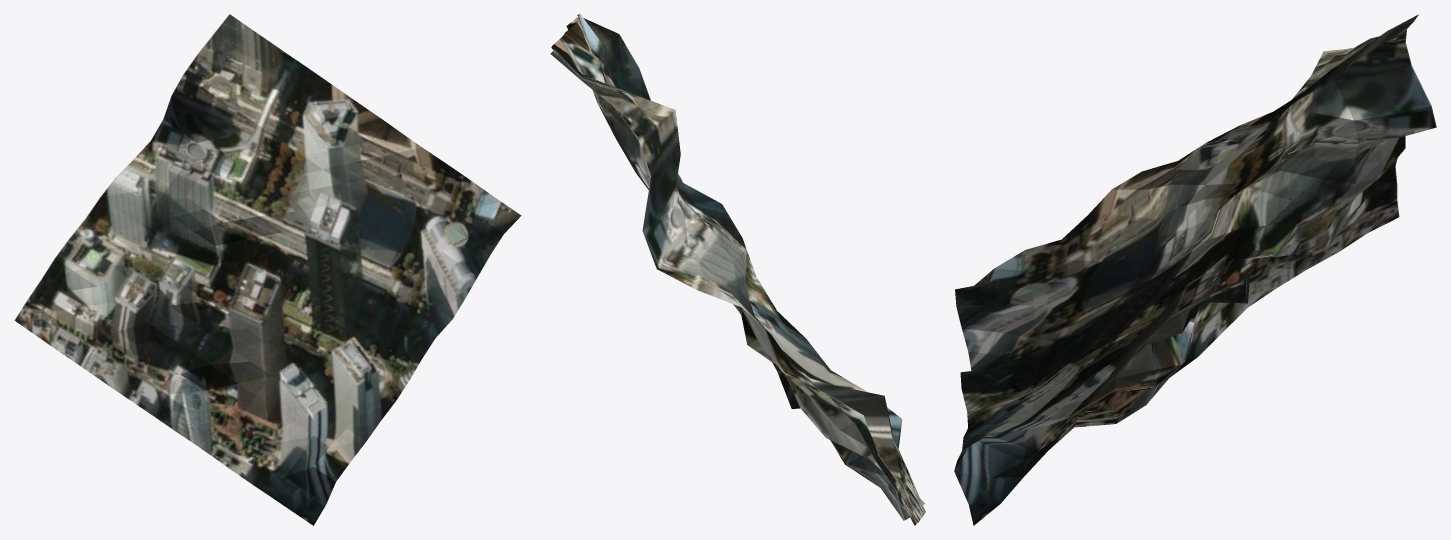
The picture shows the model from 3 angles, left to right: view 1: azimuth 30°, elevation 25°; view 2: azimuth 150°, elevation 25°; view 3: azimuth 270°, elevation 25°; orthographic projection. The views are drawn at different scales.
Size of the model in its own units: 552 by 563 by 439.
Materials: 1 (1 with a texture image).
